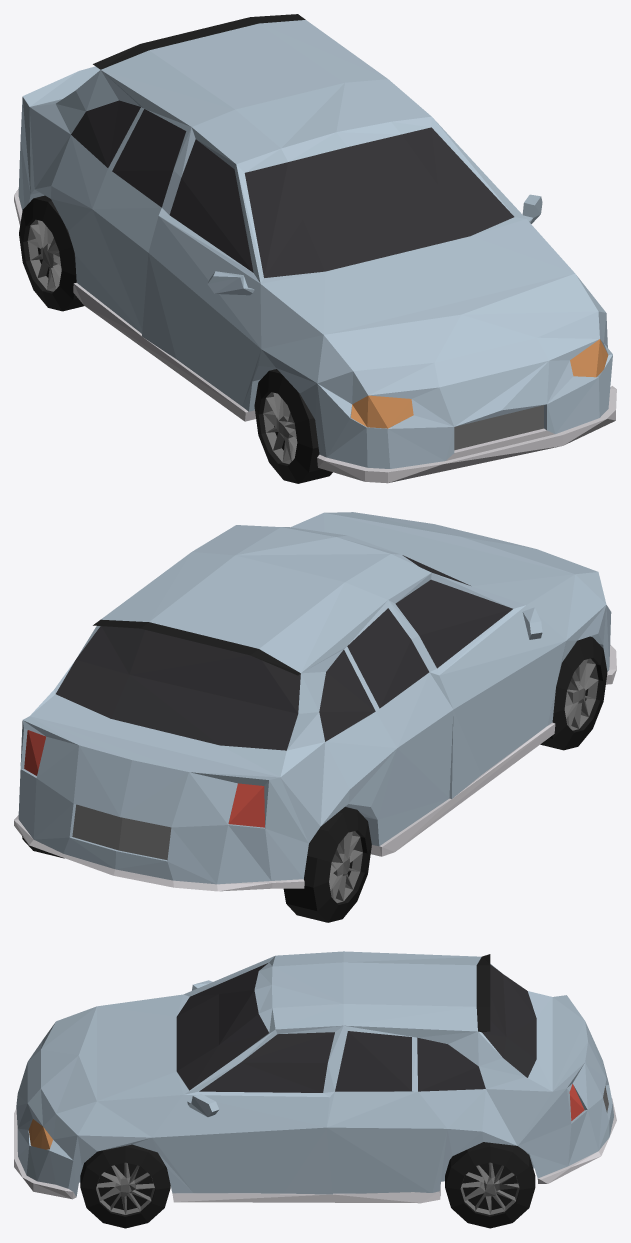
Rendered from car-b.glb.
3 views of the same model, one above another, from view 1: azimuth 30°, elevation 25°; view 2: azimuth 150°, elevation 25°; view 3: azimuth 270°, elevation 25° (orthographic). The views are drawn at different scales.
Visible parts, largest first — view 1: NormalCar2_Cube.002; view 2: NormalCar2_Cube.002; view 3: NormalCar2_Cube.002.
Boxes of the visible parts, bbox=[...] form: NormalCar2_Cube.002: bbox=[14, 14, 616, 483]; NormalCar2_Cube.002: bbox=[14, 512, 616, 922]; NormalCar2_Cube.002: bbox=[14, 951, 616, 1228].
Size of the model in its own units: 1.64 by 1.15 by 3.3.
Materials: 1 (1 with a texture image).
